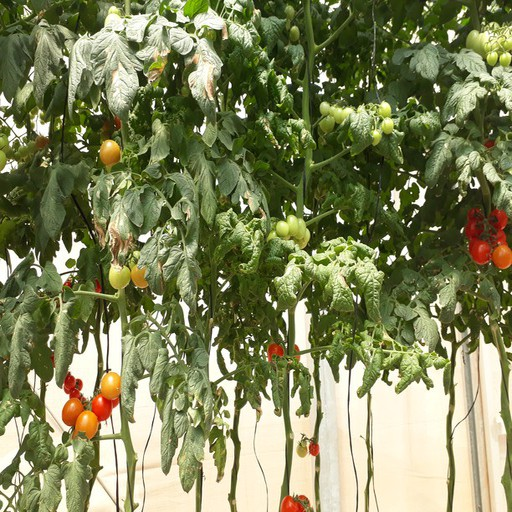green tomato bunch: (319, 100, 393, 139), (467, 19, 512, 68), (266, 216, 311, 251)
mixed tomato bunch: (60, 372, 128, 440), (1, 106, 49, 171), (49, 351, 90, 412), (107, 250, 165, 288), (267, 339, 300, 369)
red tomato bunch: (468, 207, 512, 267)
